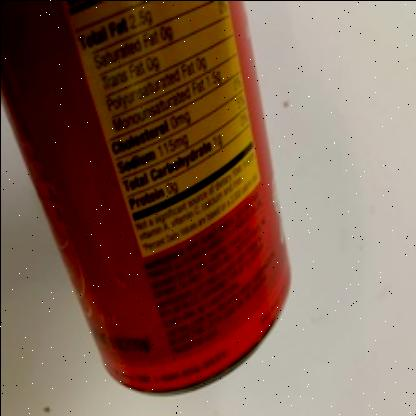Can: (0, 0, 290, 396)
